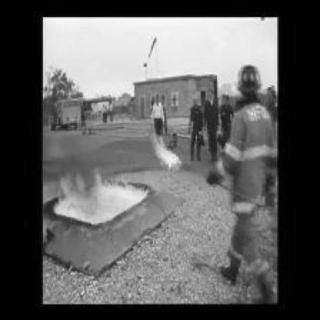Fire: (145, 126, 183, 170)
